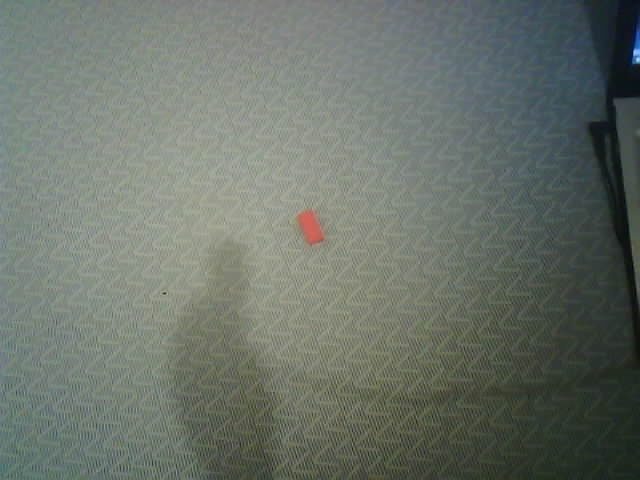lego: (296, 209, 324, 245)
